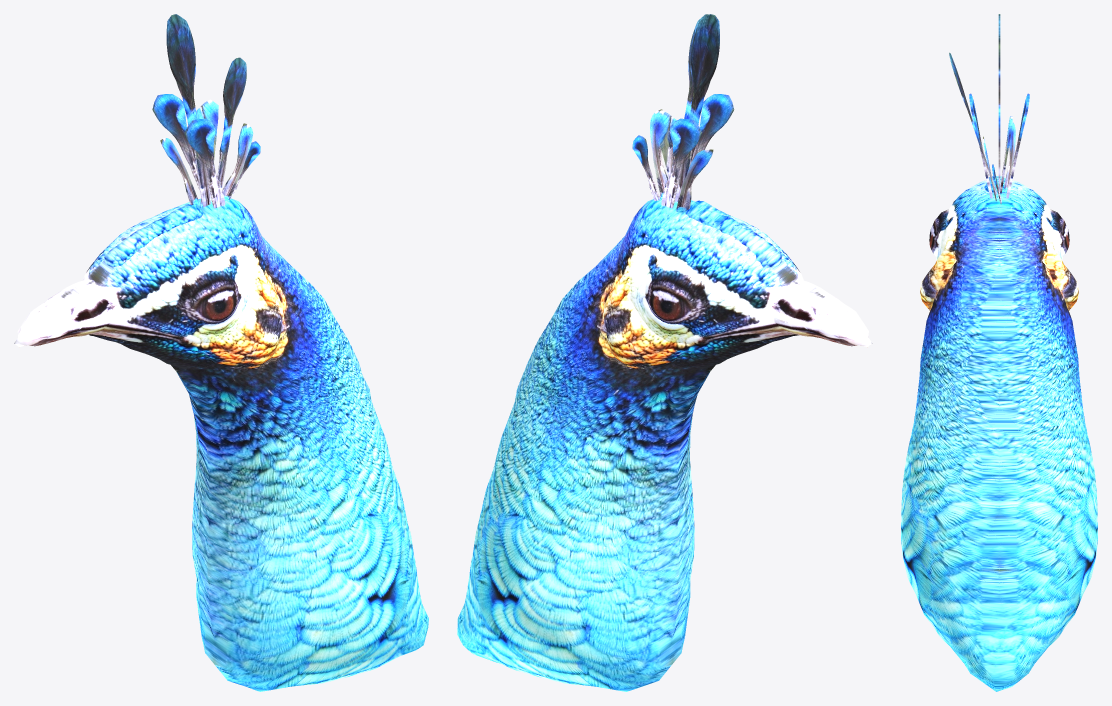
File: peacock.glb
The picture shows the model from 3 angles, left to right: view 1: azimuth 30°, elevation 25°; view 2: azimuth 150°, elevation 25°; view 3: azimuth 270°, elevation 25°; orthographic projection. The views are drawn at different scales.
Visible parts, largest first — view 1: Object_2; view 2: Object_2; view 3: Object_2.
Part boxes in pixels (x1,y1,x2,y2): Object_2: (14,14,428,691); Object_2: (457,14,872,691); Object_2: (901,14,1097,691).
Size of the model in its own units: 118 by 191 by 58.71.
1 material, 1 textured.
